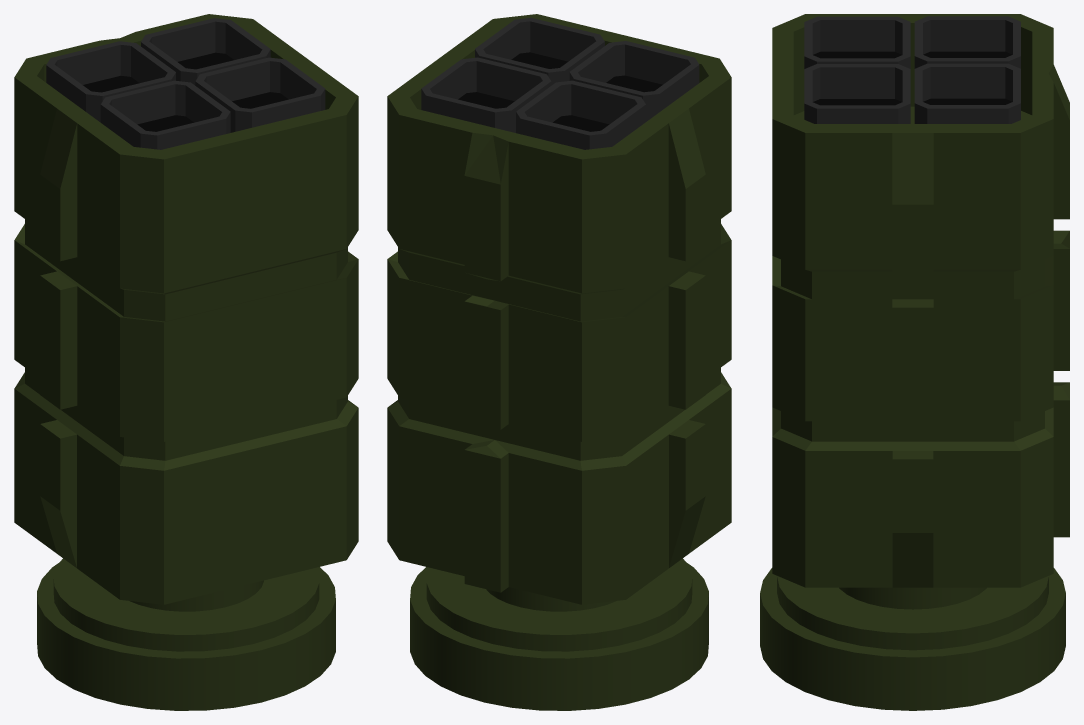
The model's file is NowThisOne.fbx.
3 renders of one model, left to right at view 1: azimuth 30°, elevation 25°; view 2: azimuth 150°, elevation 25°; view 3: azimuth 270°, elevation 25°, orthographic. The views are drawn at different scales.
Parts seen in each view (by area): view 1: Cube, Cylinder; view 2: Cube, Cylinder; view 3: Cube, Cylinder.
Part boxes in pixels (box(x1,y1,x2,y2)): Cube: box(14, 14, 358, 604); Cylinder: box(37, 558, 335, 710); Cube: box(387, 14, 731, 604); Cylinder: box(410, 558, 708, 710); Cube: box(772, 14, 1069, 587); Cylinder: box(760, 568, 1065, 710).
Bounding box in the file's own units: 268 × 536 × 258.
